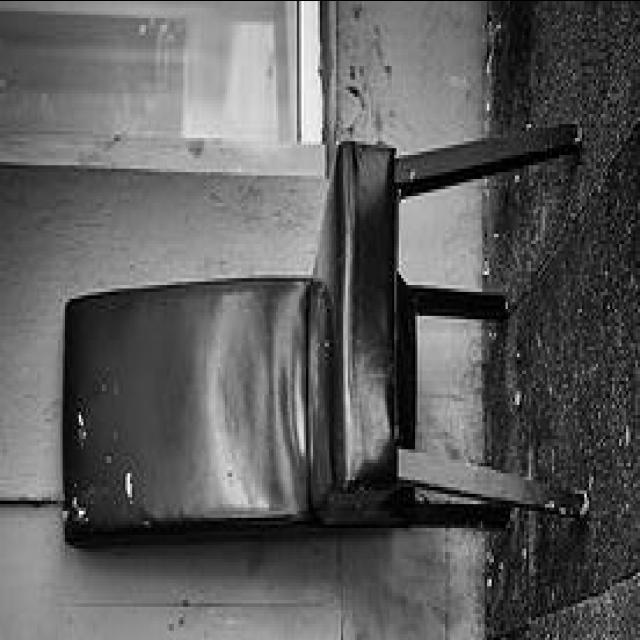chair: (55, 116, 581, 556)
